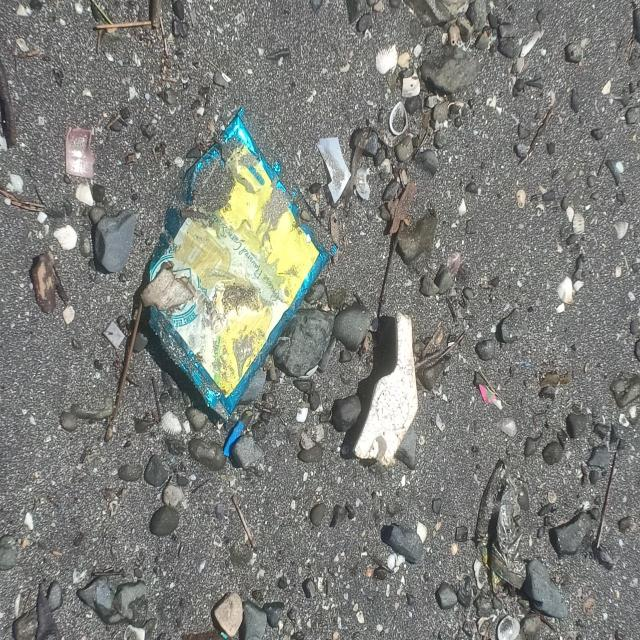litter: (150, 108, 337, 422), (353, 312, 419, 466), (63, 127, 93, 179)
